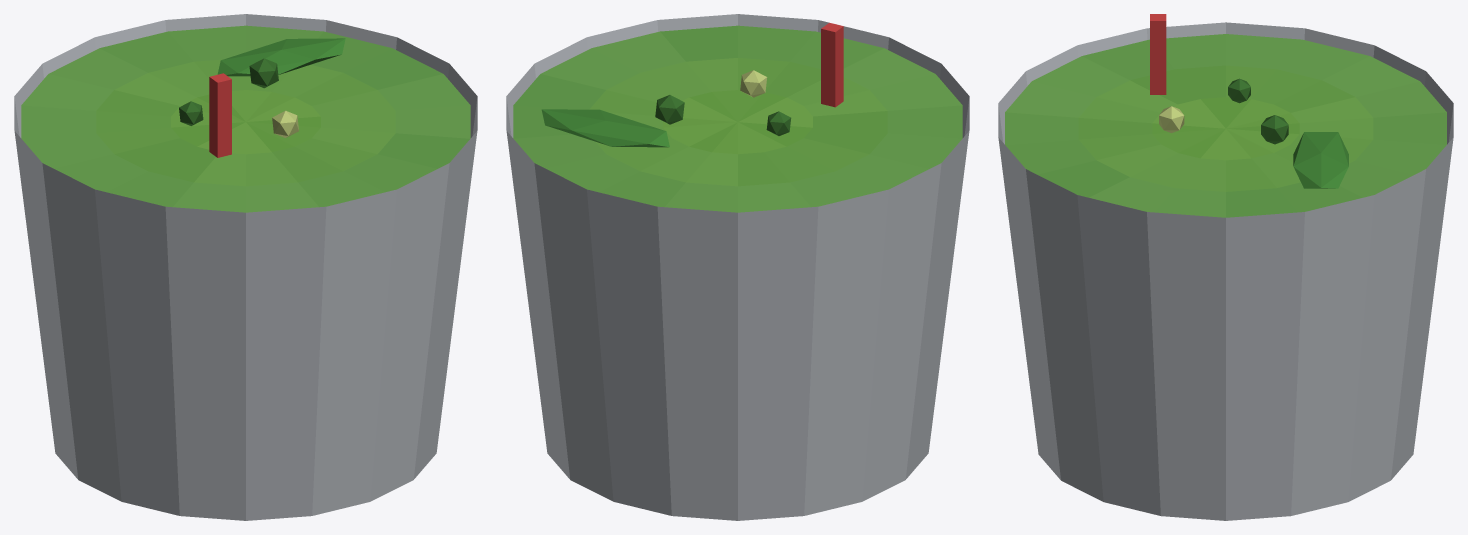
The model's file is Herbal_Smoothie.glb.
3 renders of one model, left to right at view 1: azimuth 30°, elevation 25°; view 2: azimuth 150°, elevation 25°; view 3: azimuth 270°, elevation 25°, orthographic.
Visible parts, largest first — view 1: _I_HerbalSmoothie; view 2: _I_HerbalSmoothie; view 3: _I_HerbalSmoothie.
Boxes of the visible parts, x1=… form: _I_HerbalSmoothie: x1=14, y1=14, x2=477, y2=520; _I_HerbalSmoothie: x1=506, y1=14, x2=969, y2=520; _I_HerbalSmoothie: x1=998, y1=14, x2=1453, y2=520.
Size of the model in its own units: 0.0336 by 0.0316 by 0.0331.
